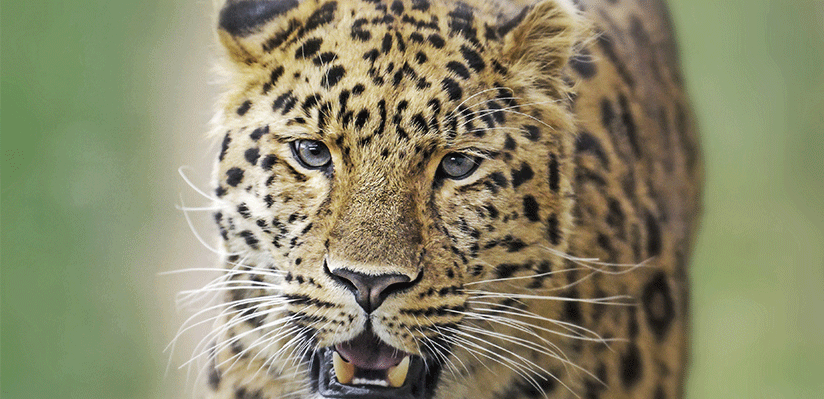amur_leopard: (178, 2, 709, 398)
